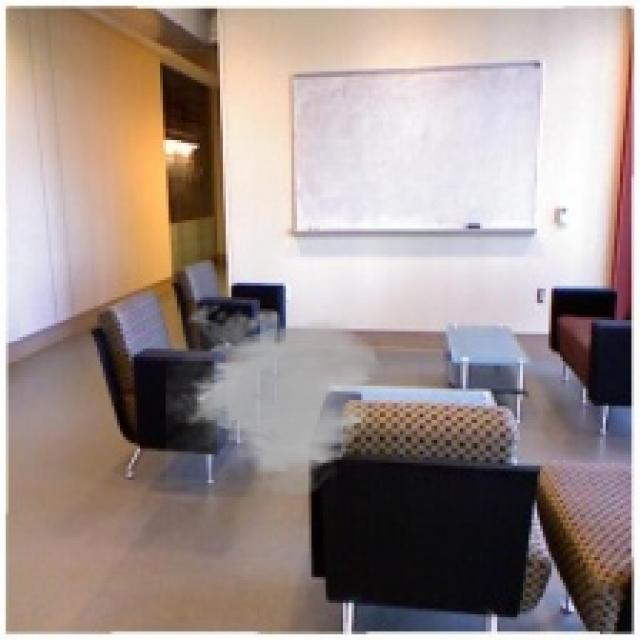smoke: (166, 297, 383, 503)
